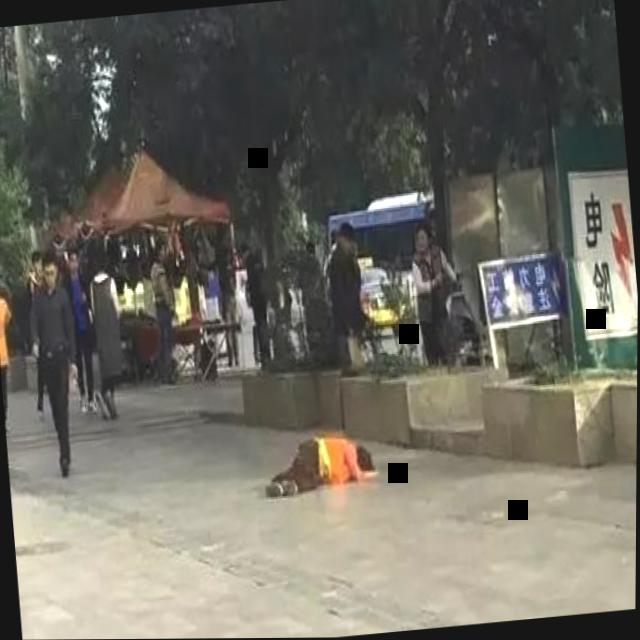Fall-Detected: (258, 413, 392, 504)
